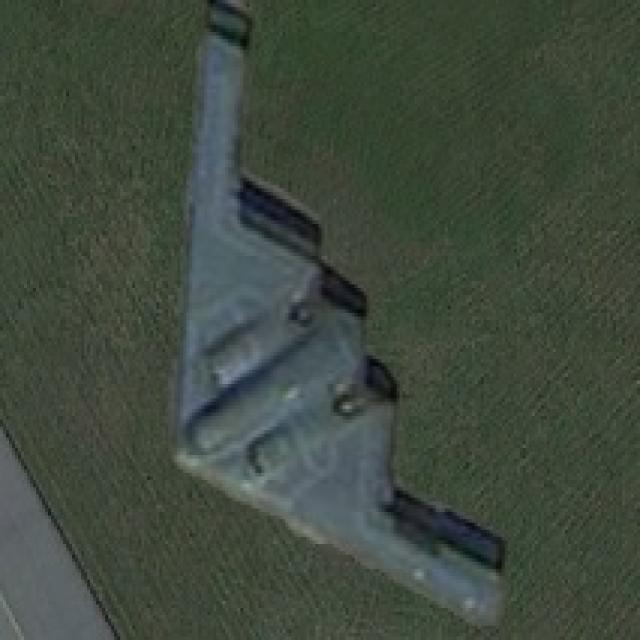B-2_TopDown: (156, 0, 514, 633)
